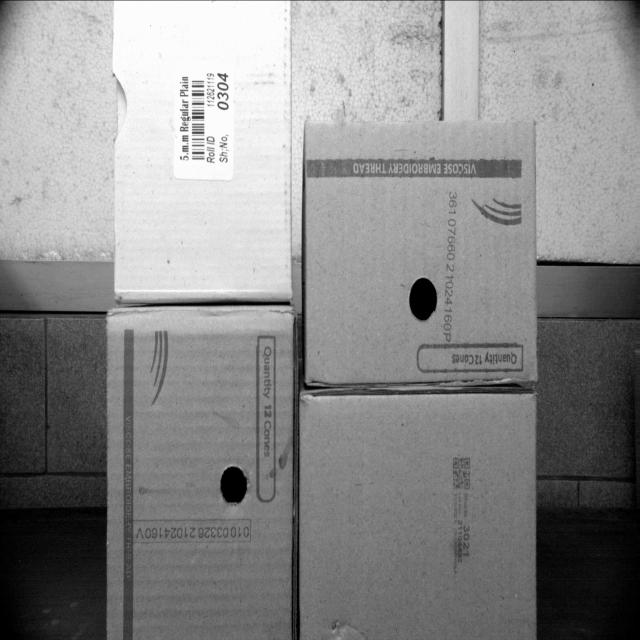cardboxes: (306, 120, 538, 387), (107, 310, 295, 639), (299, 397, 538, 639), (114, 0, 292, 302)
